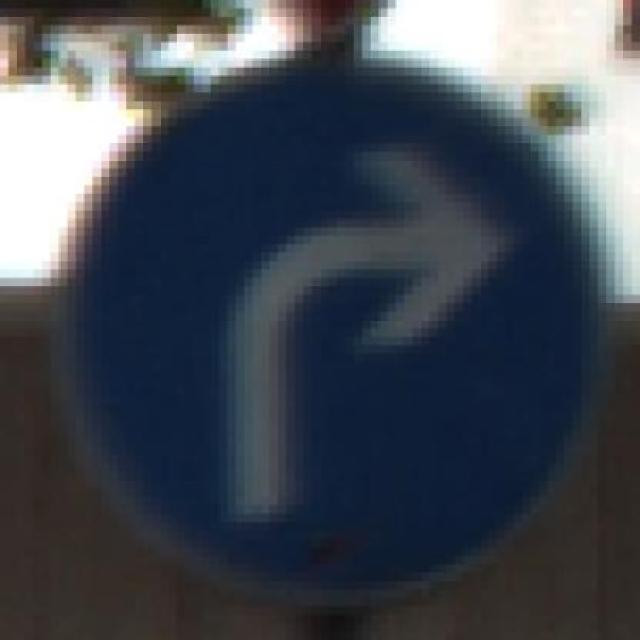Turn right ahead: (53, 48, 610, 588)
